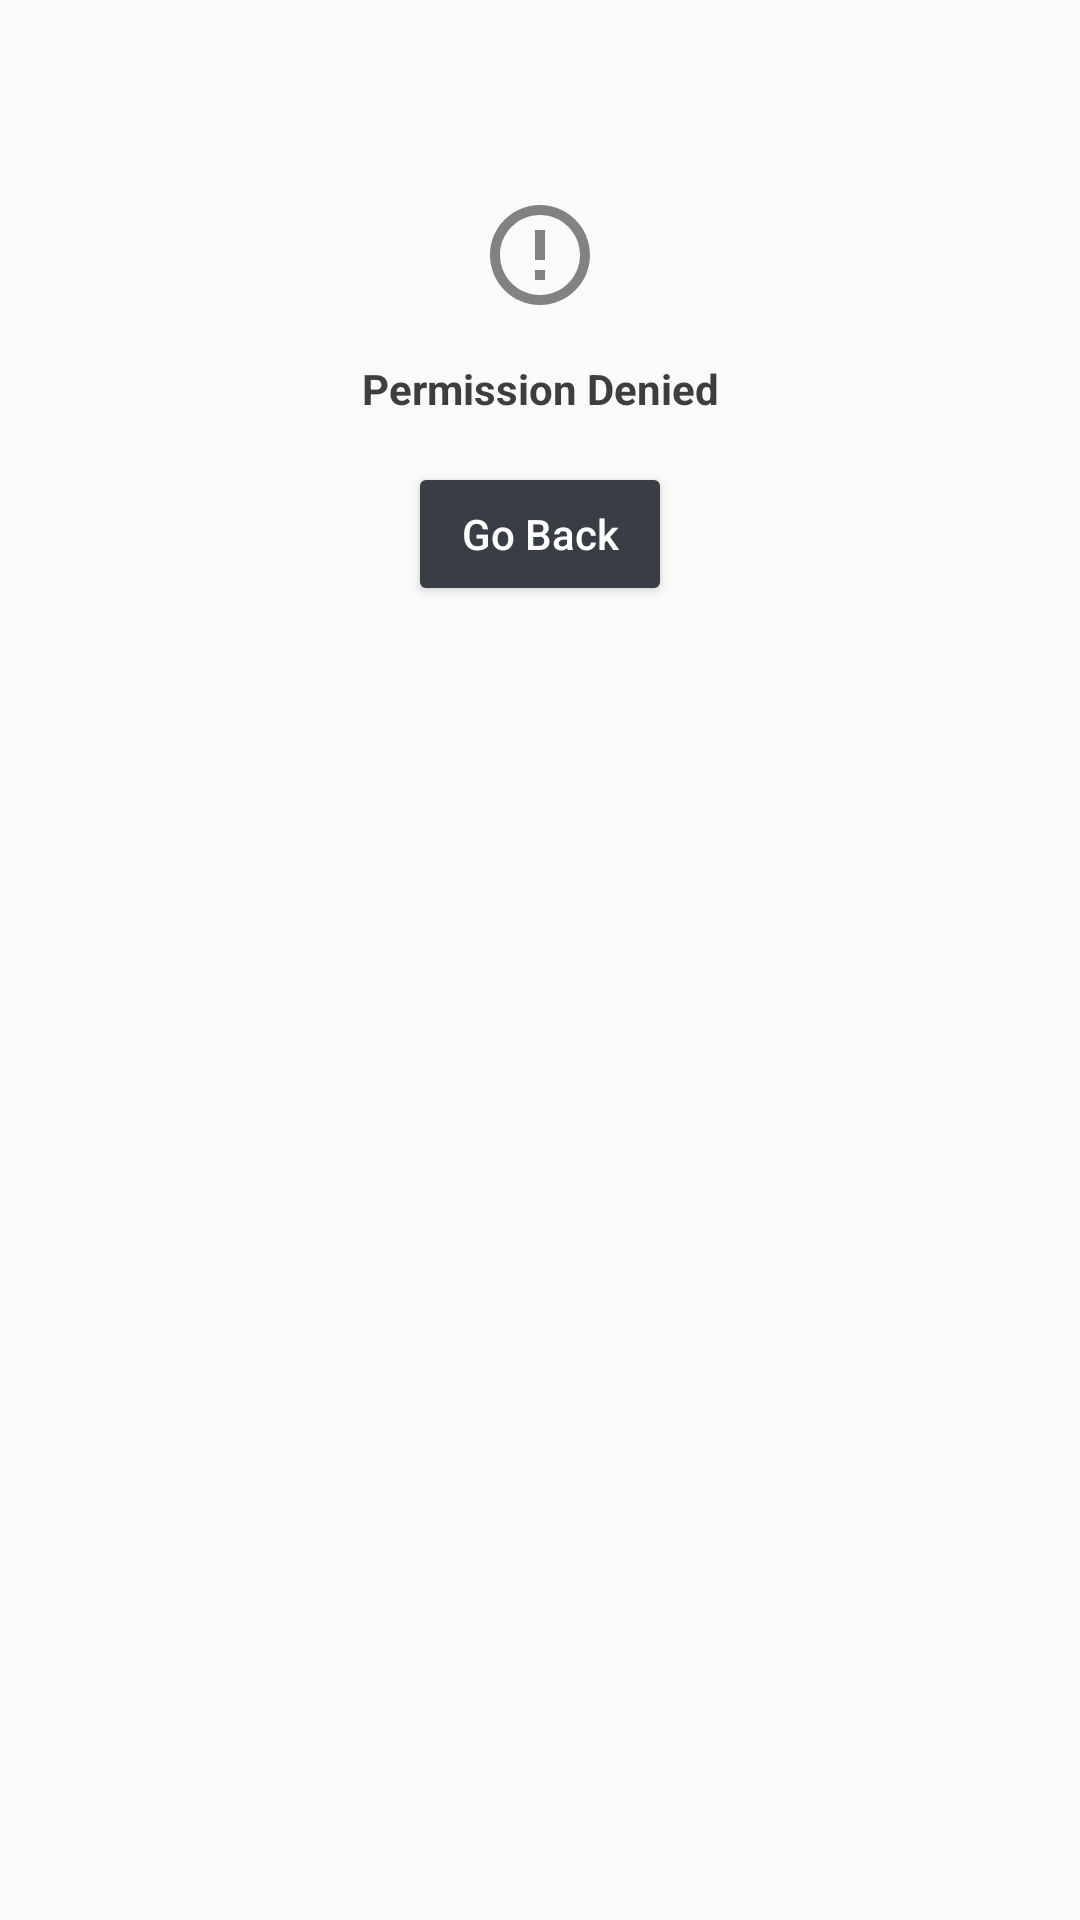

Named icons in this screenshot (1080 × 1920) and their centers, point (x, y):
error: point (540, 255)
